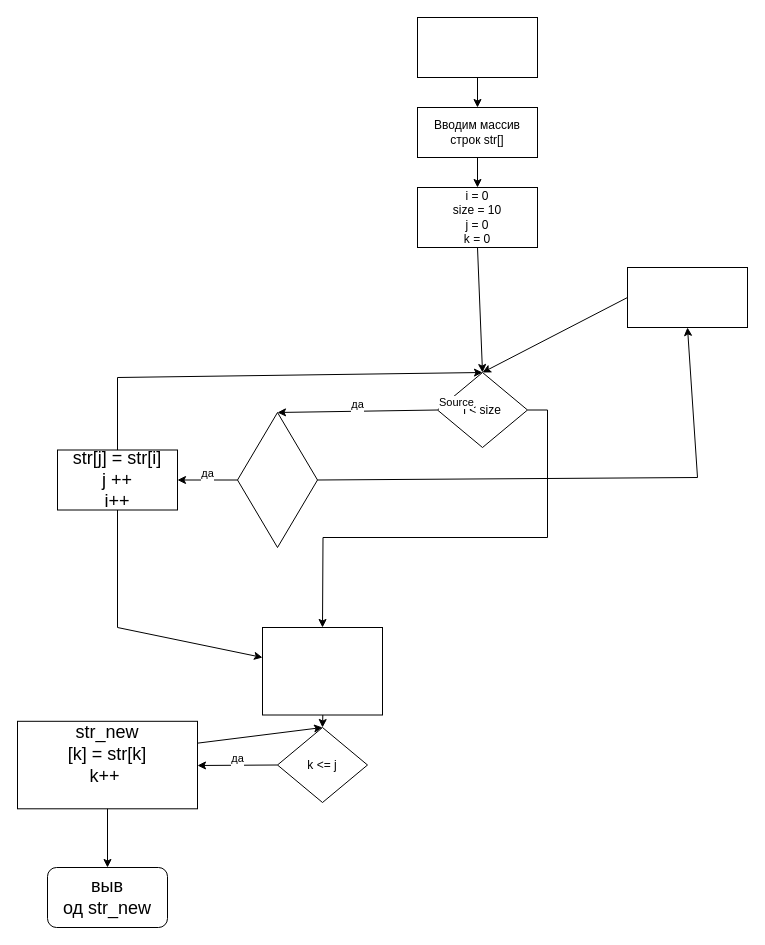
The diagram is 765 pixels wide and 945 high, and some of its shapes have lost their labels. Each missing label, with the box of its shape:
i ++: (626, 266, 748, 328)
длина str[i] >=3: (236, 412, 318, 548)
Начало: (416, 16, 538, 78)
создать массив str_new[j]: (262, 626, 382, 715)
